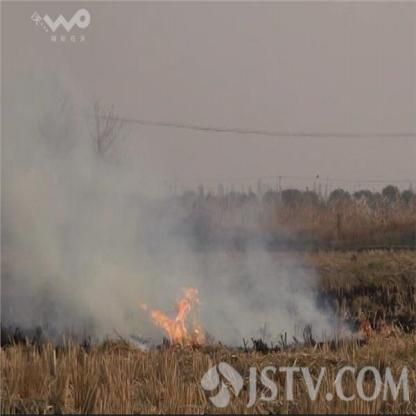fire: (144, 280, 206, 346)
smoke: (31, 161, 144, 327), (217, 255, 313, 331)
